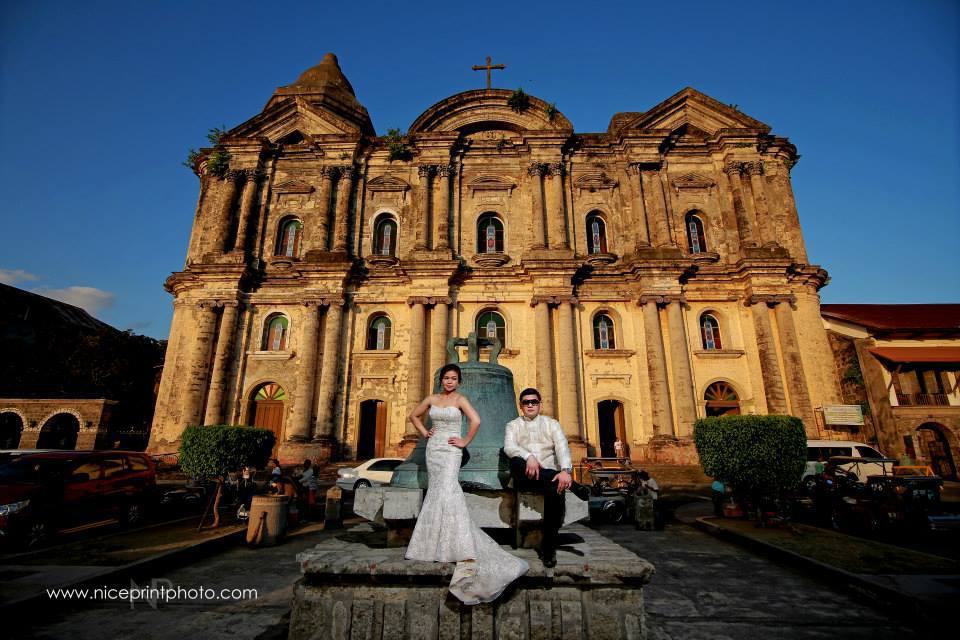taal_basilica_church_taal_batangas: (146, 38, 842, 498)
